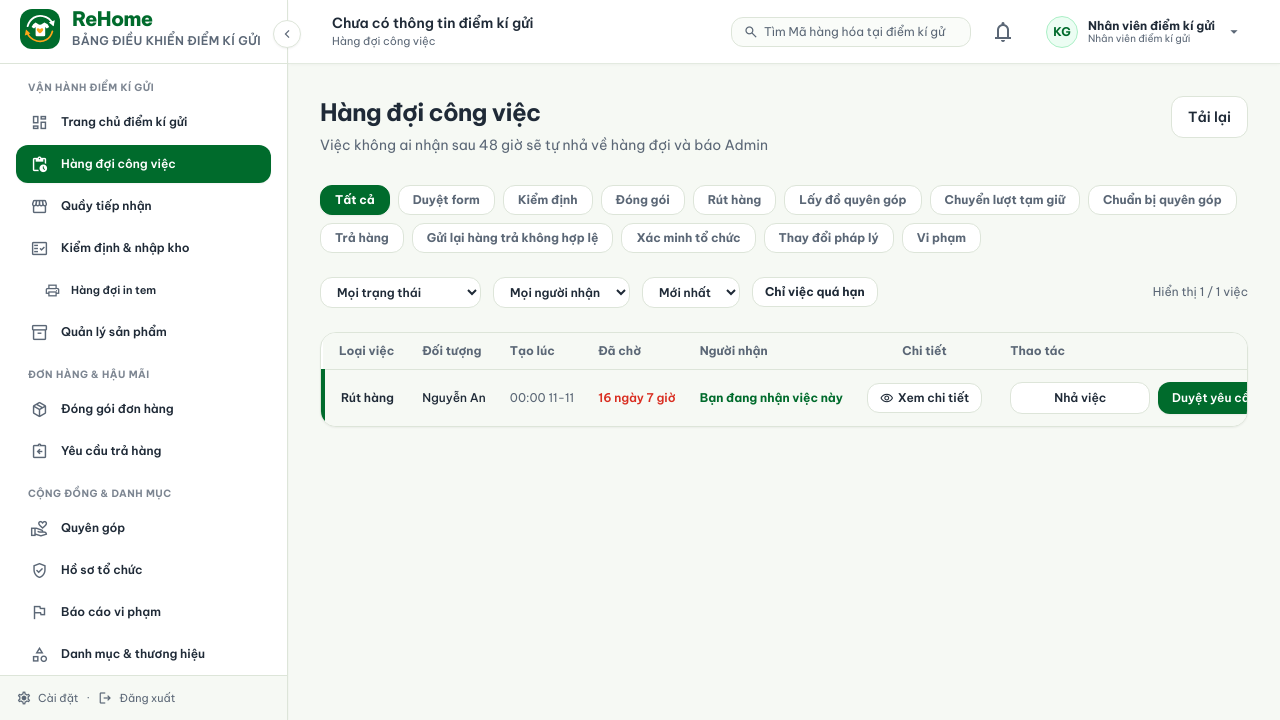
Test: API 28 queue contract › requires a reason when rejecting a PENDING_APPROVAL withdrawal and posts reason to backend
Click the button "Duyệt yêu cầu" at x=1214, y=398, box [1158,382,1270,414]
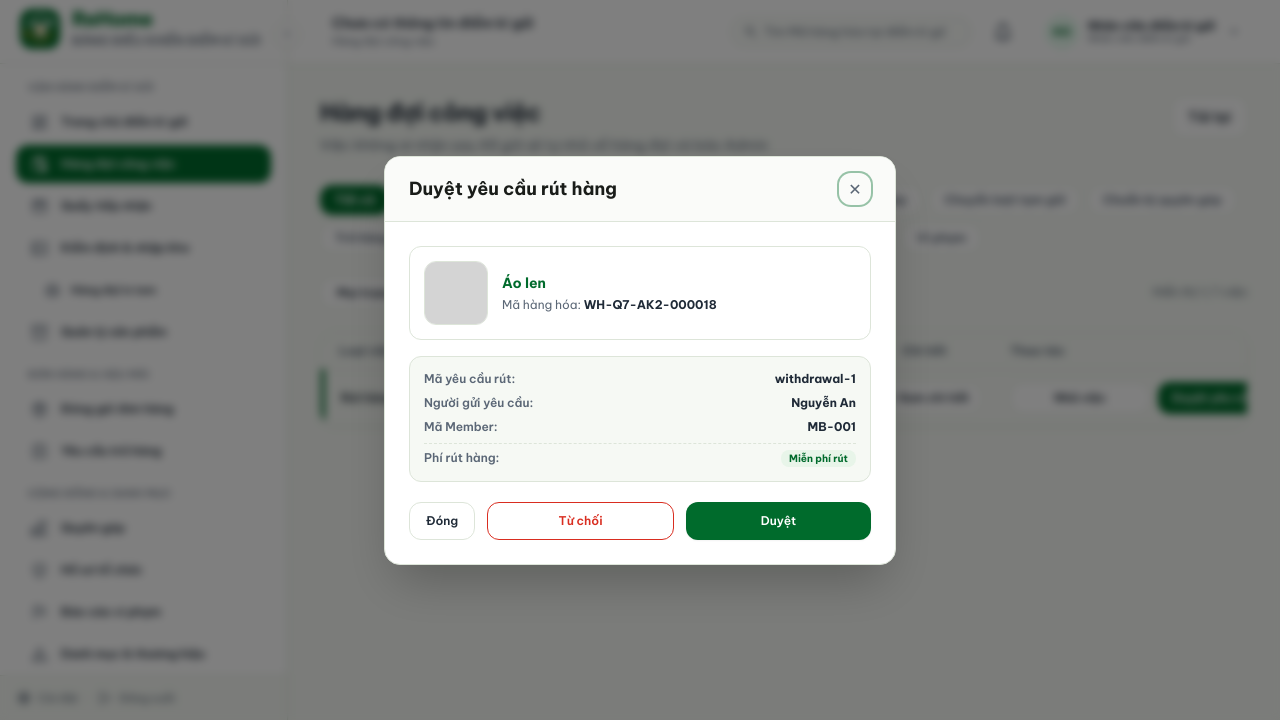
Click the button "Từ chối" at x=581, y=520, box [487,502,674,540]
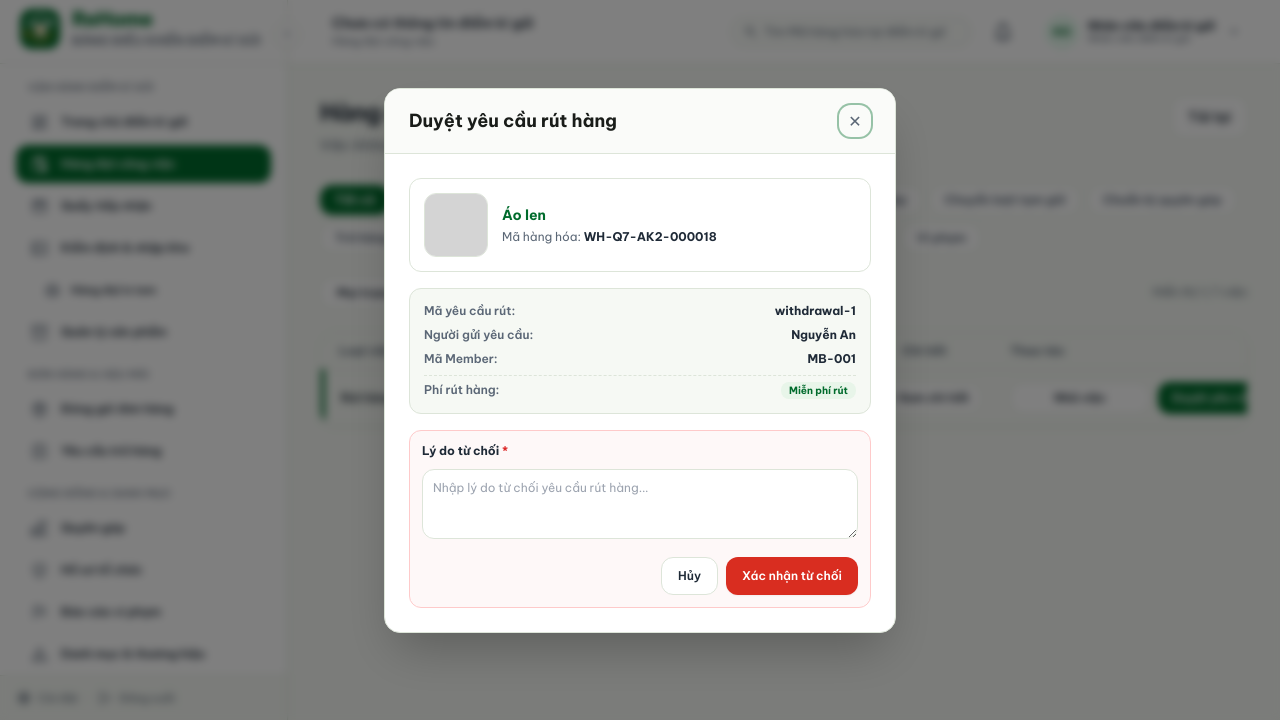
Click the button "Xác nhận từ chối" at x=792, y=576, box [726,556,858,594]
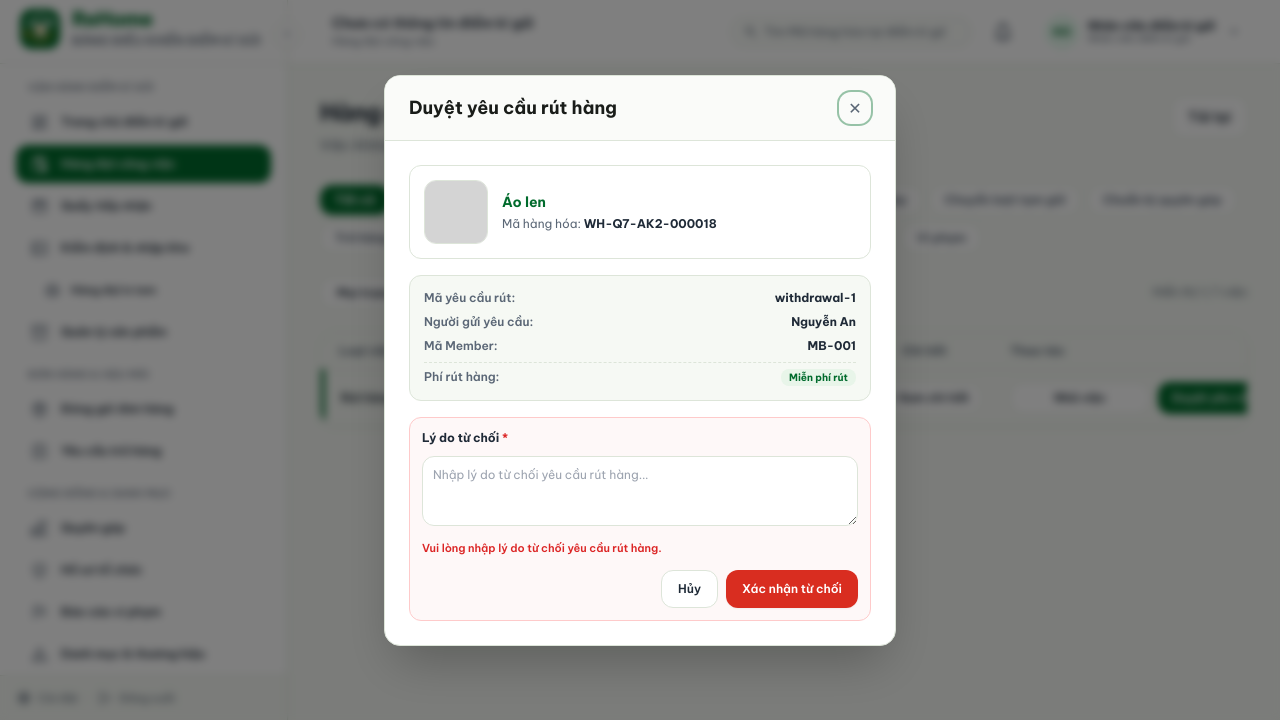
Result: the message shows "Vui lòng nhập lý do từ chối" at [422,540,662,554]
Type "  Sản phẩm đang giữ cho đơn hàng khác  " into the text box labelled "Lý do từ chối *" at x=640, y=490, box [422,456,858,526]
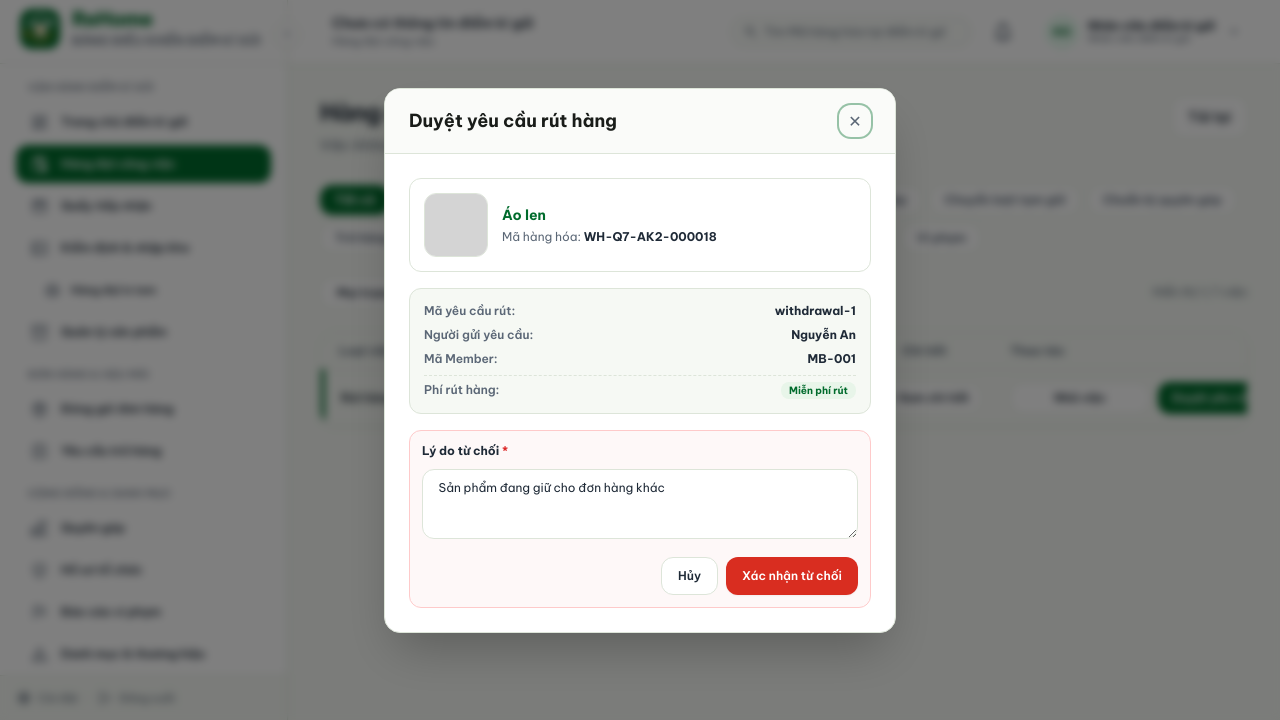
Click the button "Xác nhận từ chối" at x=792, y=576, box [726,556,858,594]
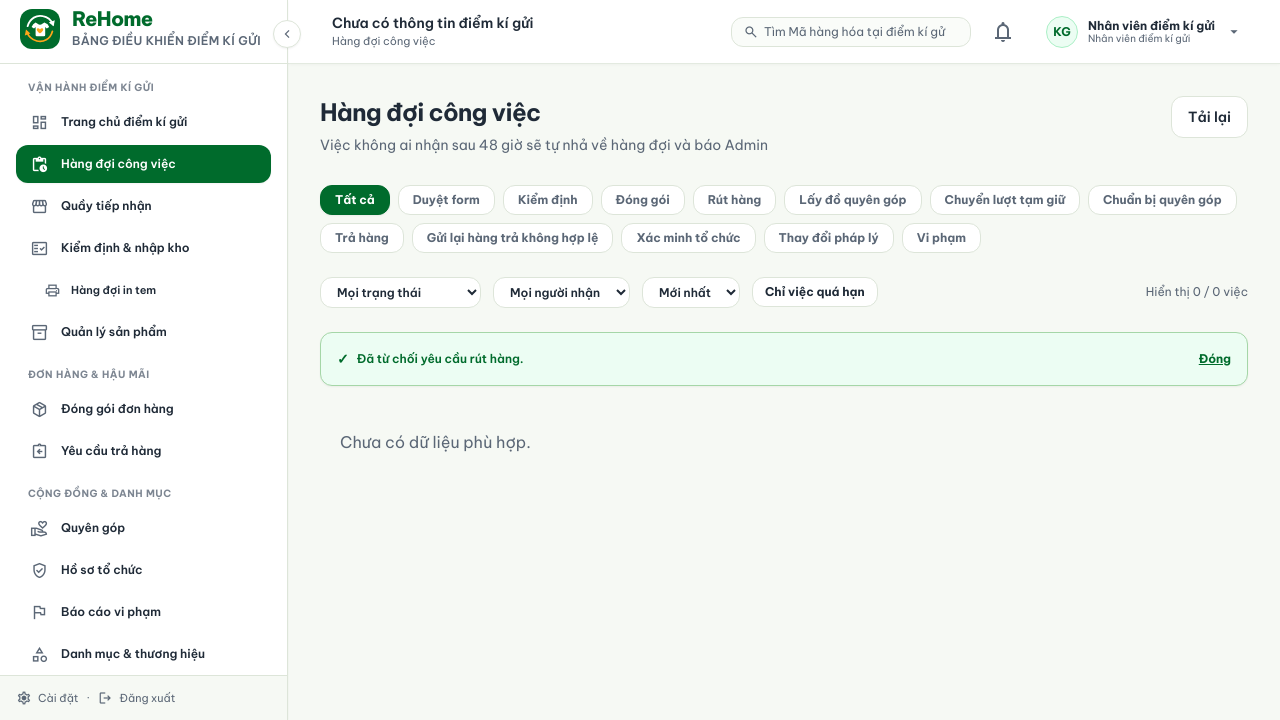
Result: the dialog is gone
